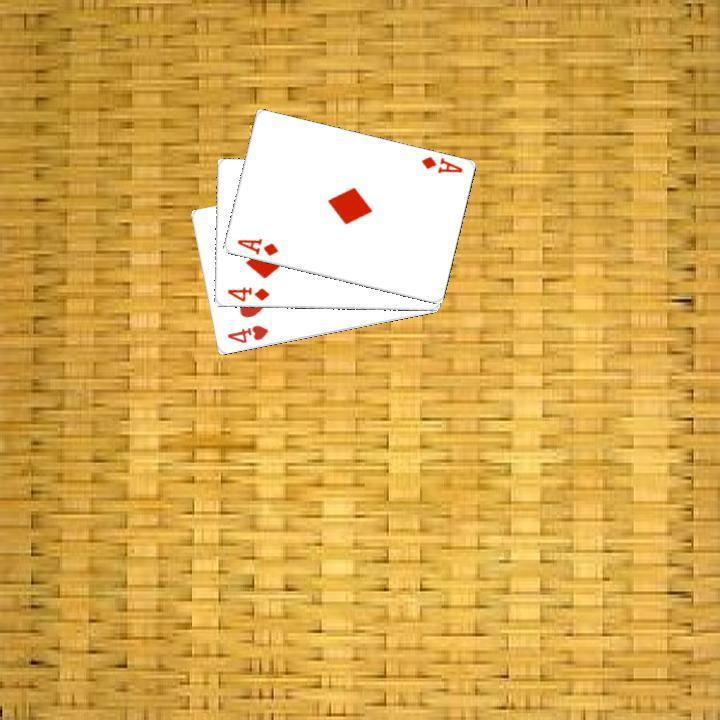4: (223, 321, 270, 346), (223, 283, 271, 303)
A: (232, 234, 280, 258), (417, 152, 464, 176)
